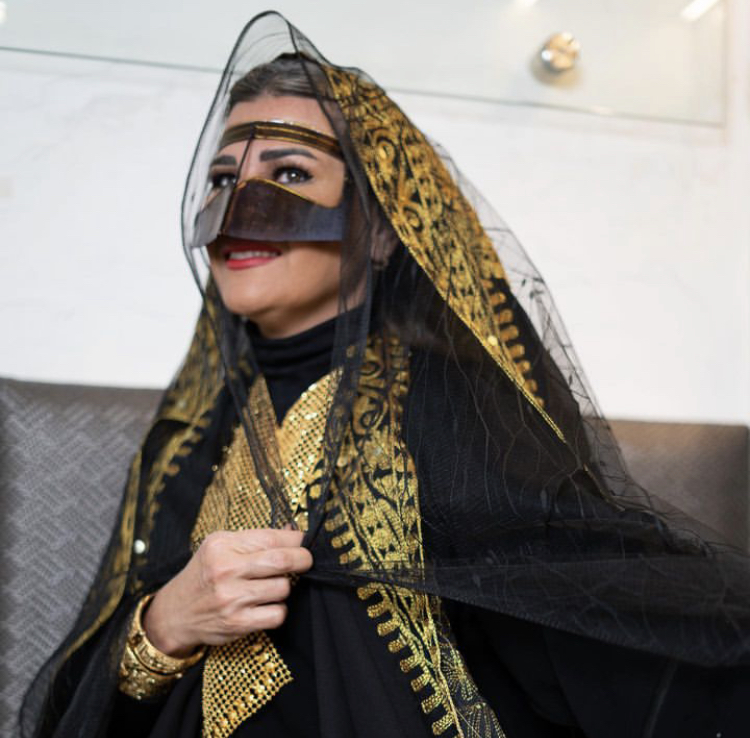Saudi_Founding_Day: (19, 4, 748, 737)
